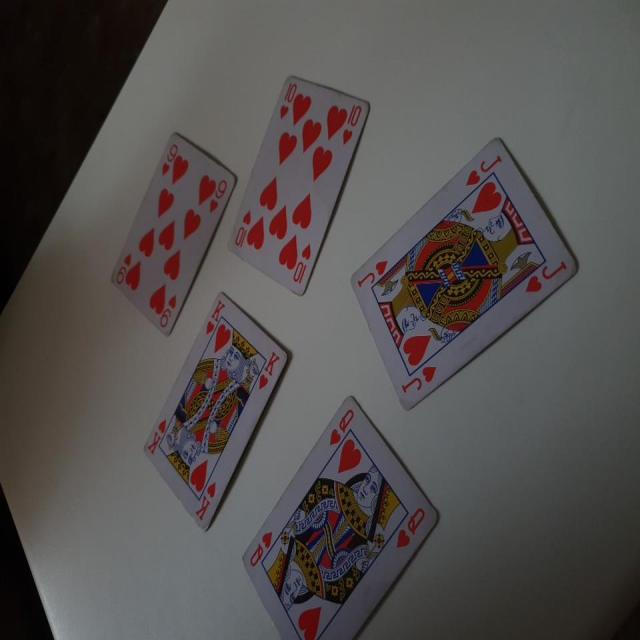10 Hearts: (231, 74, 374, 301)
9 Hearts: (106, 122, 239, 340)
J Hearts: (338, 136, 583, 413)
K Hearts: (138, 289, 296, 541)
Q Hearts: (240, 395, 443, 632)
